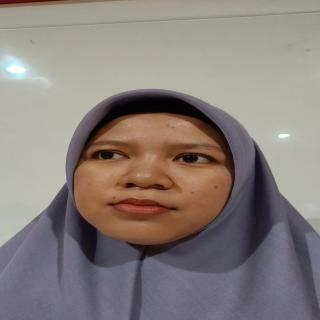Netral: (67, 104, 243, 252)
